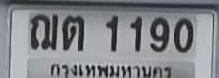0: (173, 17, 192, 52)
1: (105, 14, 117, 50), (130, 16, 141, 51)
9: (150, 17, 169, 52)
A12: (29, 13, 58, 51)
A21: (62, 15, 84, 52)
BKK: (44, 60, 174, 78)
